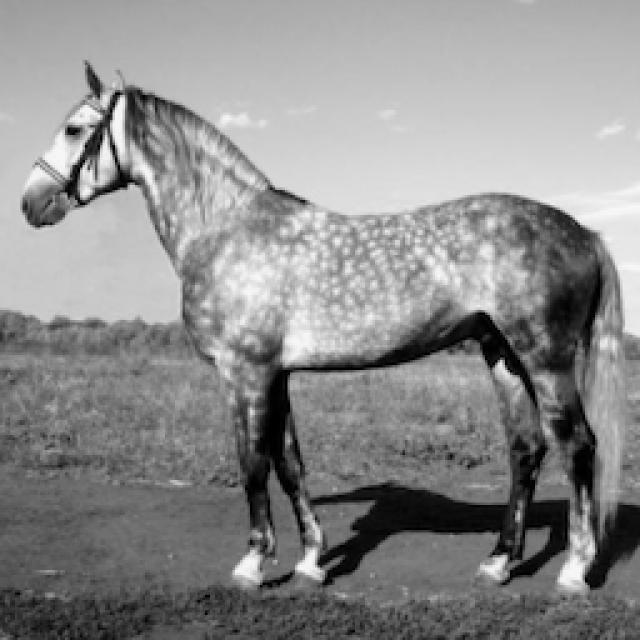Horse: (15, 55, 638, 605)
